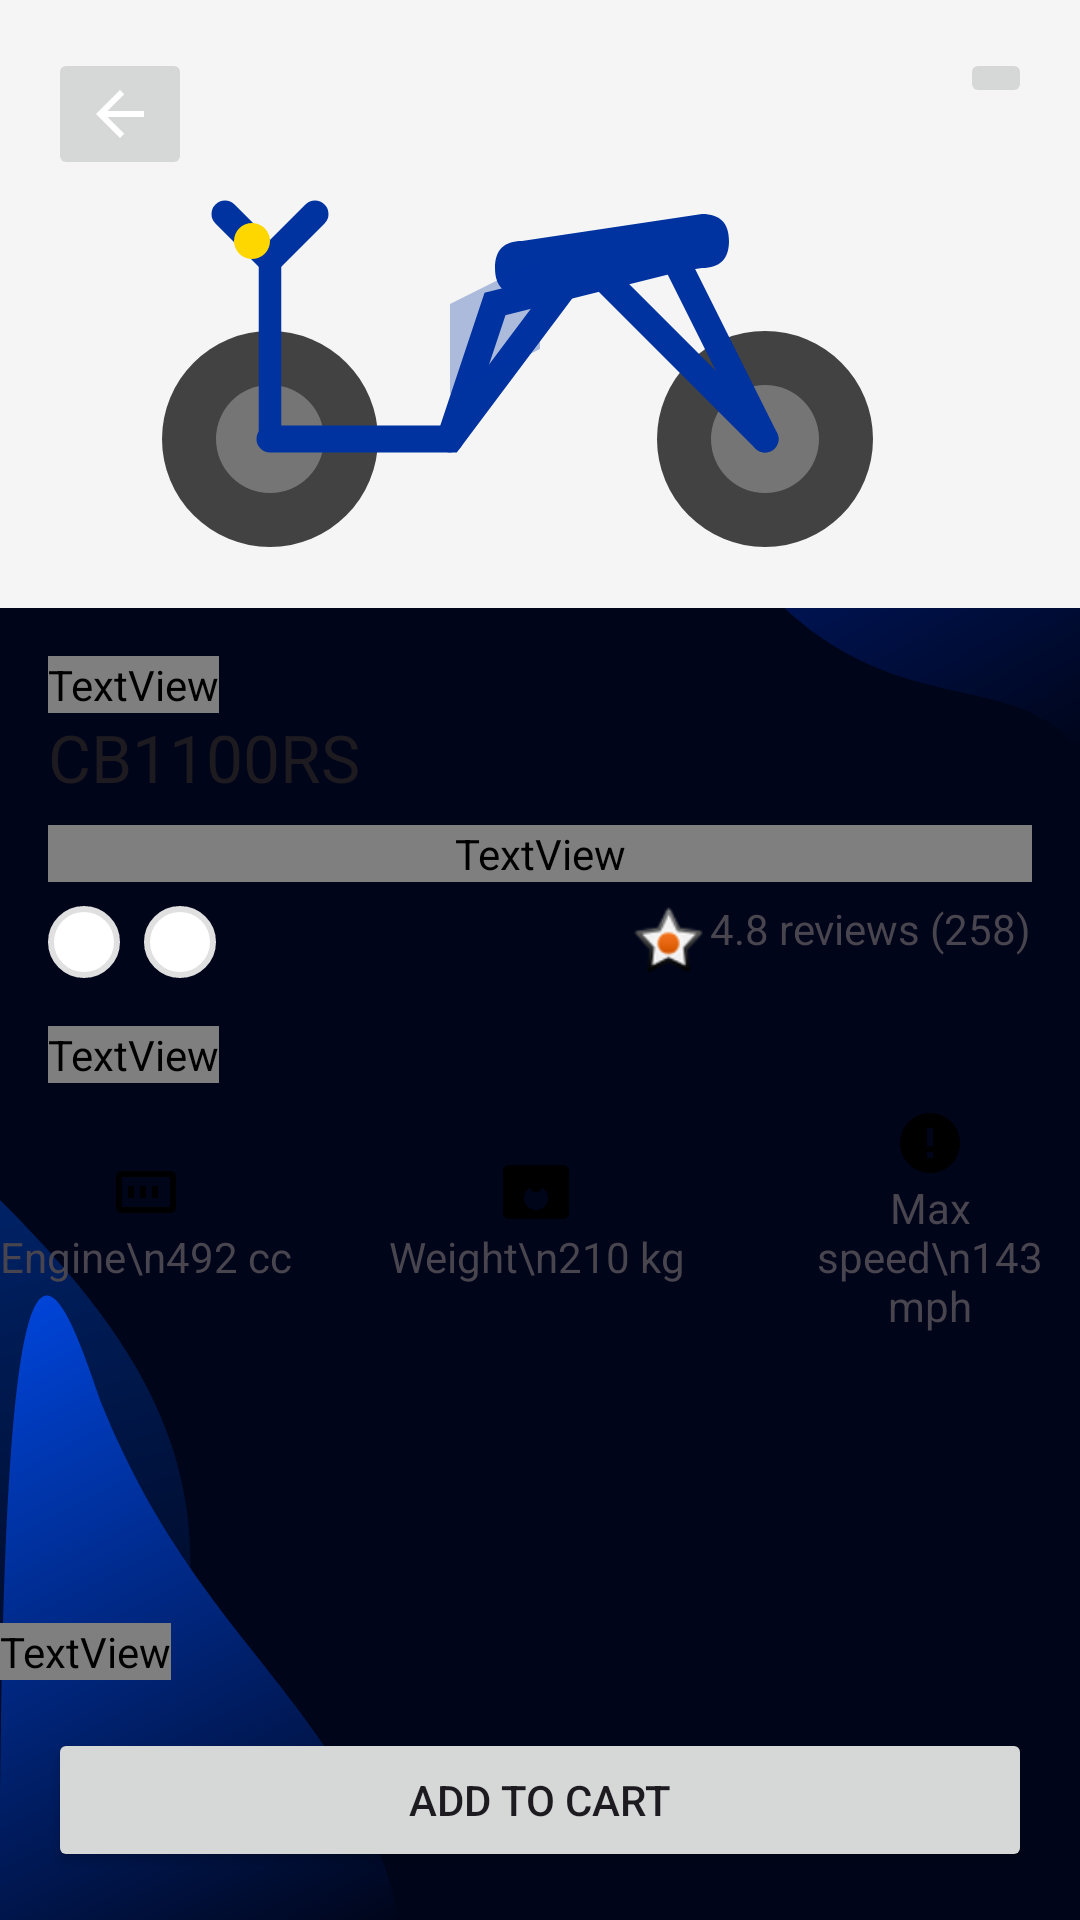

Named icons in this screenshot (1080px×1920px) and their bounding boxes, (x1, y1, x2, y2):
back: (60, 66, 180, 162)
